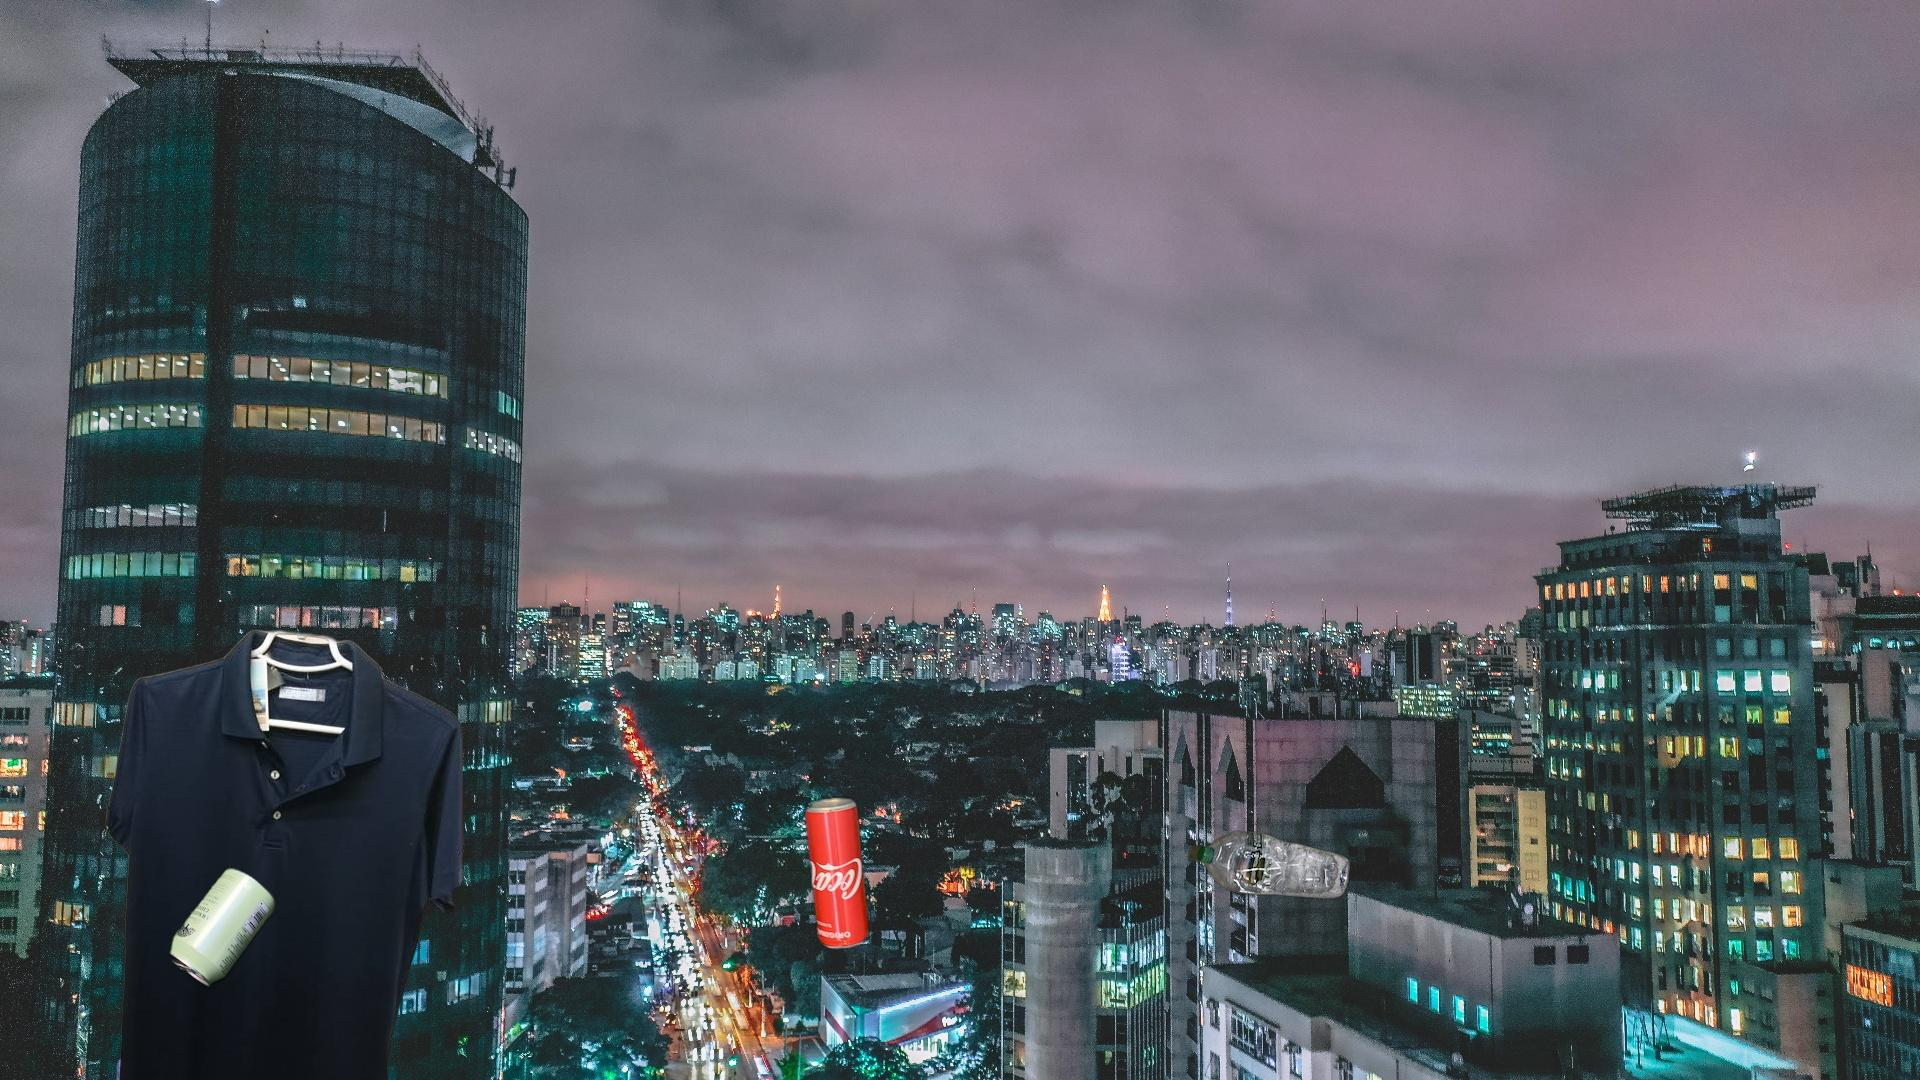clothes: (102, 624, 469, 1080)
metal-cans: (165, 861, 281, 992), (800, 793, 874, 955)
plastic-bottles: (1183, 827, 1356, 902)
